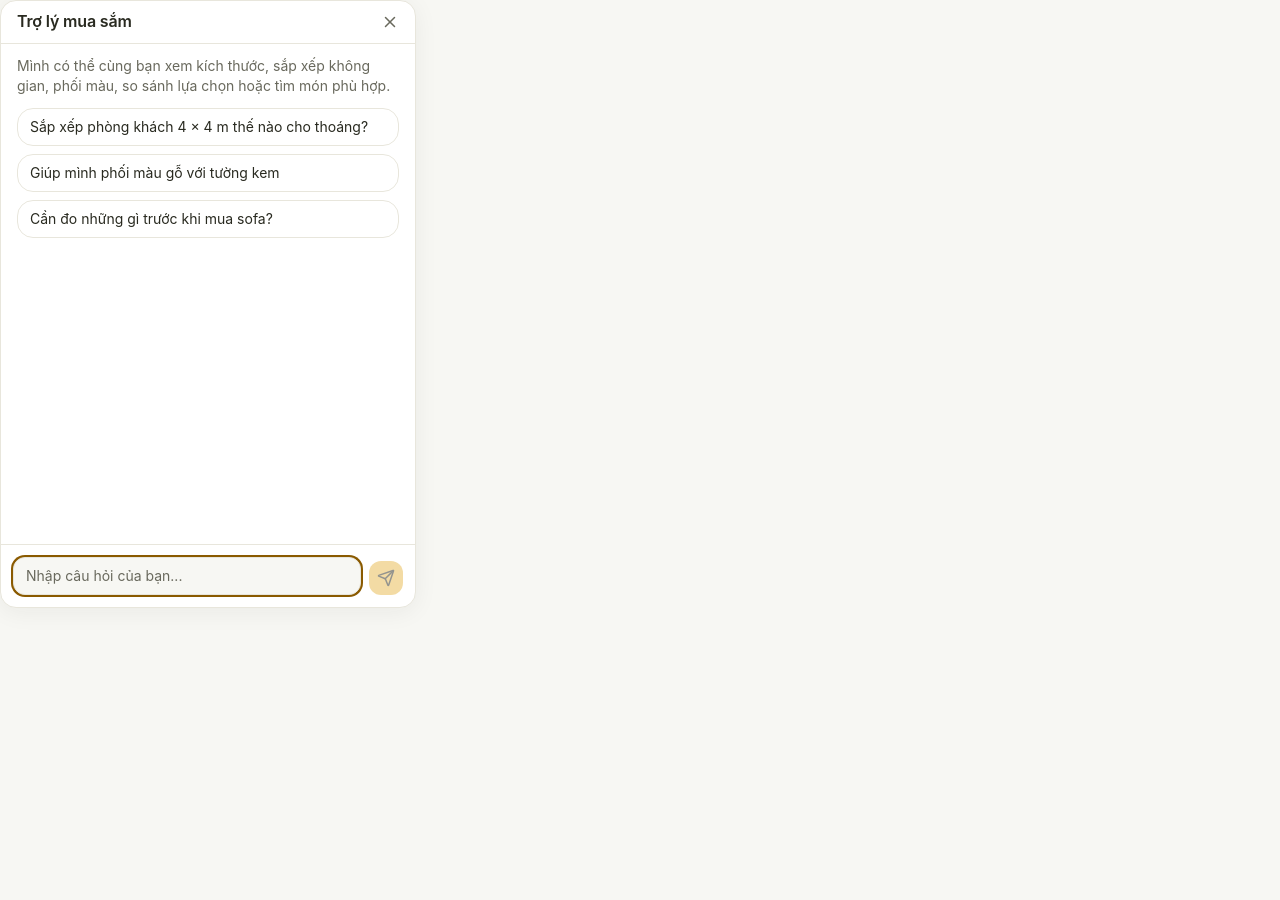
Test: ChatPanel › shows a budget message when the daily limit is exceeded
This screenshot has width=1280, height=900.
In the field labelled "Nhập câu hỏi": (187,576) [13,557,361,595], type "Hỏi nhiều quá"
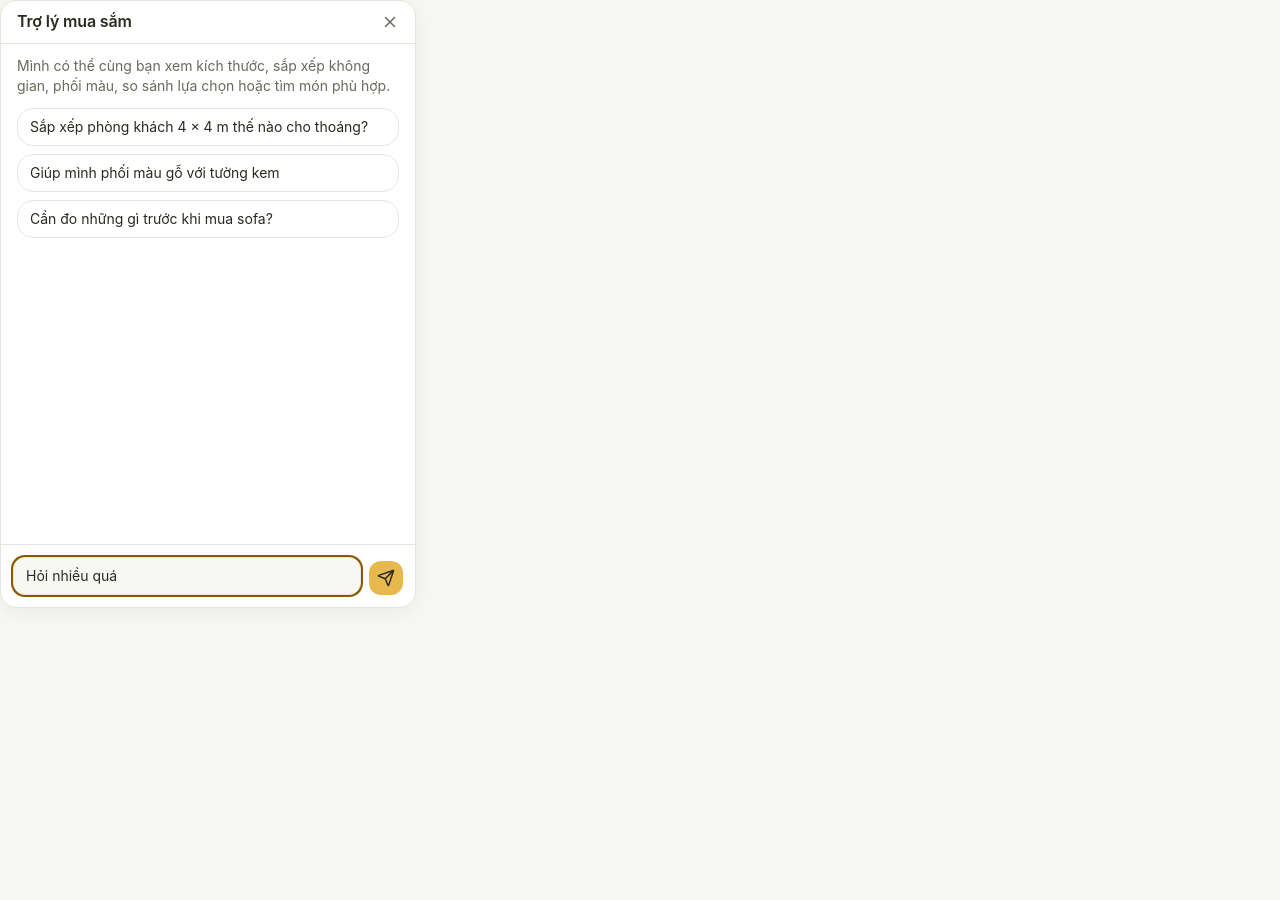
Click the button named "Gửi": (386,578) [369,561,403,595]
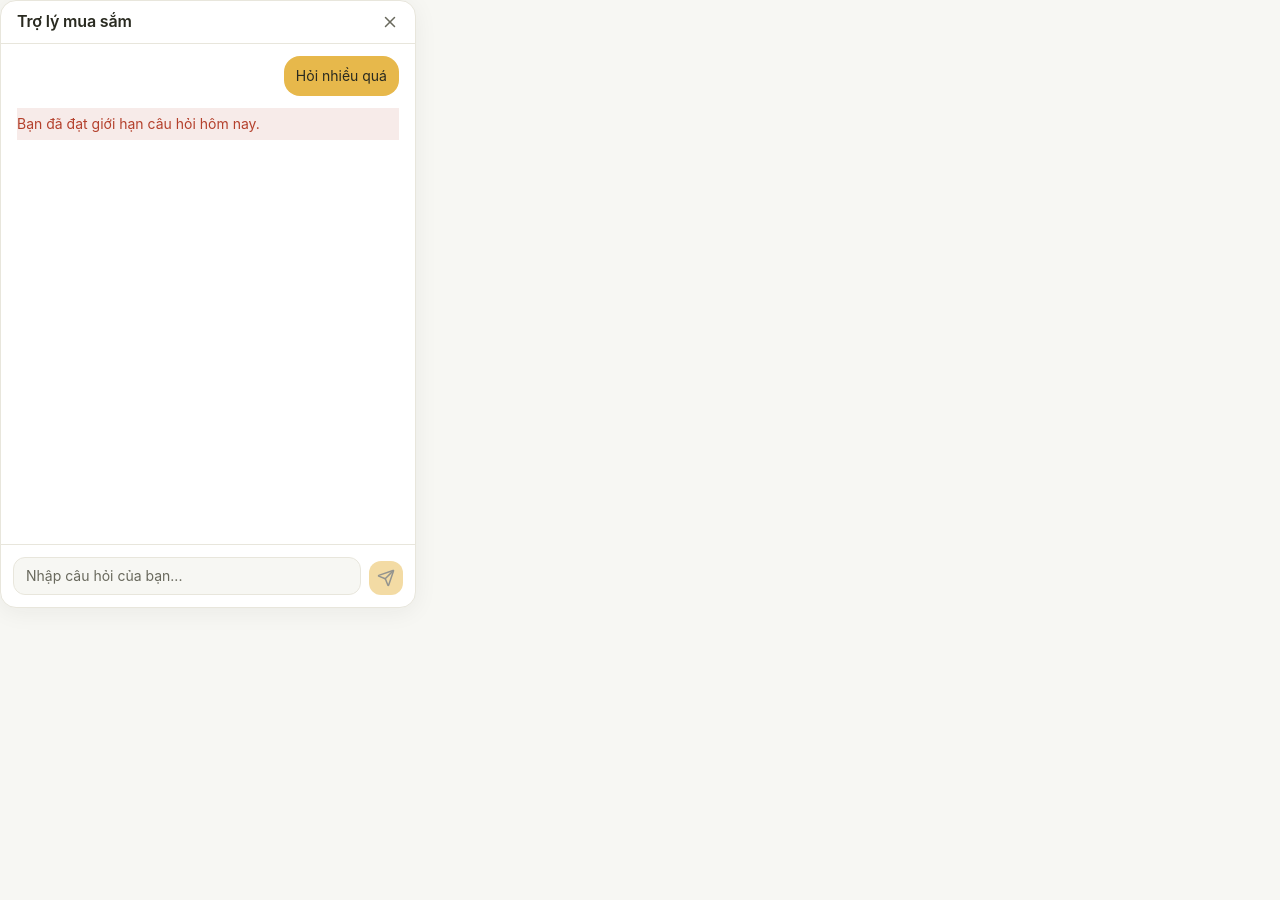
Expected: the text "Bạn đã đạt giới hạn câu hỏi hôm nay." is shown, [17,115,260,132]
